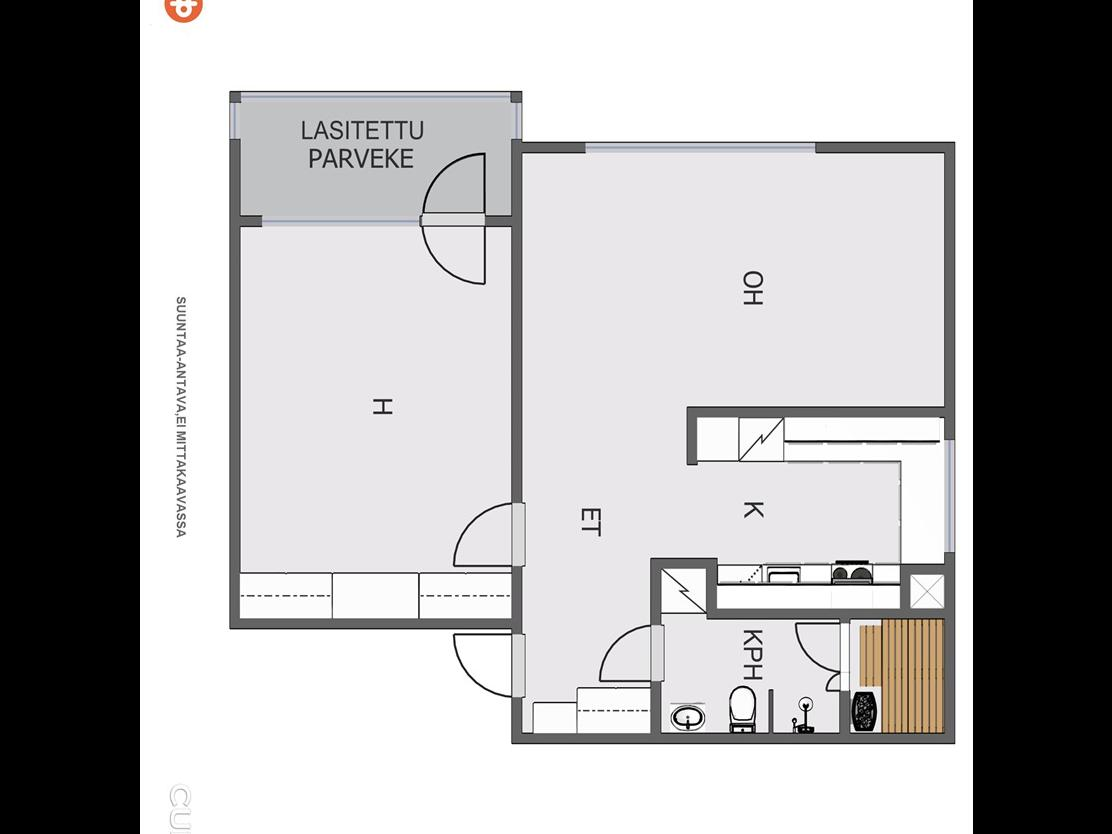bathroom: (655, 617, 842, 736)
door: (445, 495, 531, 575), (448, 626, 528, 703), (416, 147, 491, 224), (421, 218, 488, 288), (594, 620, 667, 684)
perimeter: (228, 139, 954, 745)
window: (572, 133, 824, 157), (220, 84, 517, 99), (250, 213, 421, 232), (938, 428, 958, 564), (225, 83, 245, 144), (504, 97, 526, 143)
